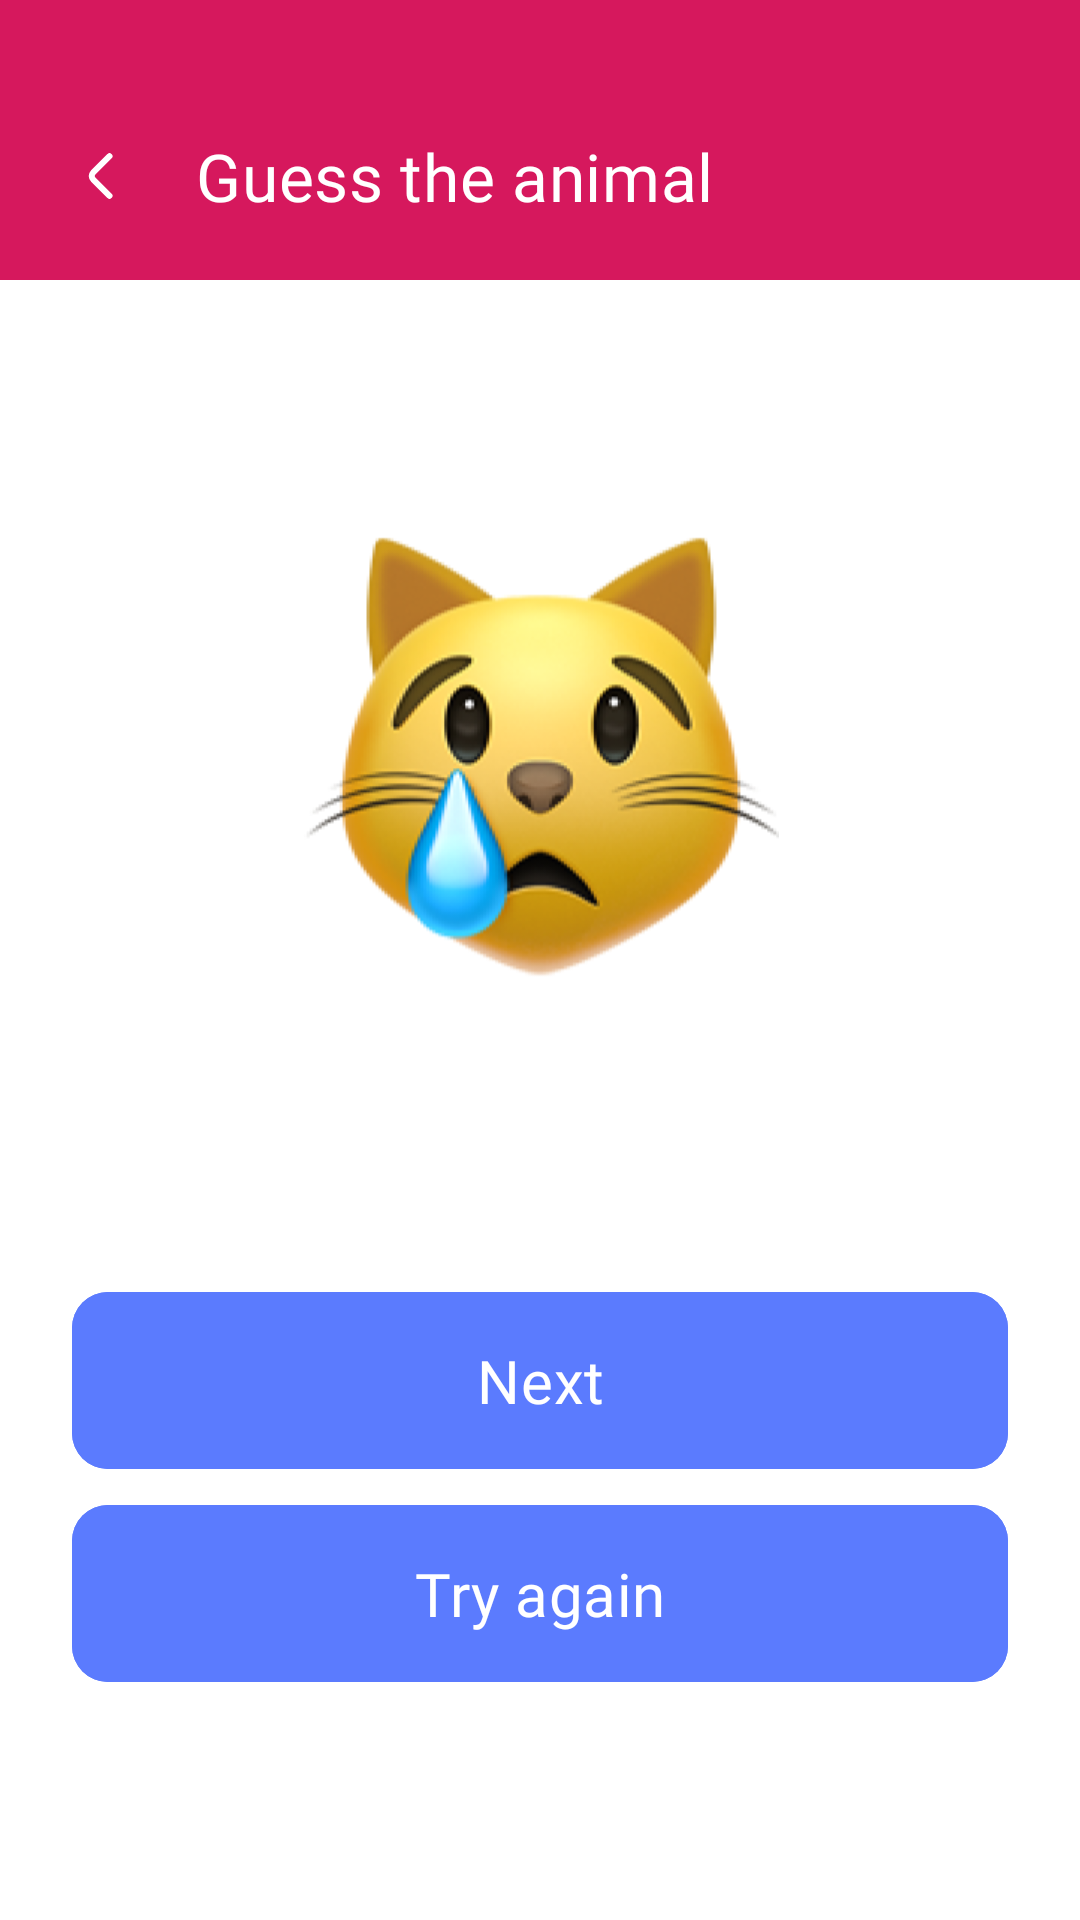

Screen size 1080x1920. Icon name, then its box in pixels as (x1, y1, x2, y2):
back: (88, 153, 113, 199)
